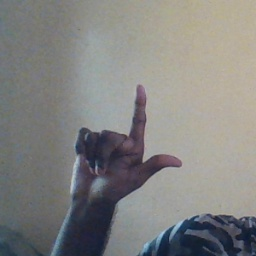L: (69, 84, 185, 202)
